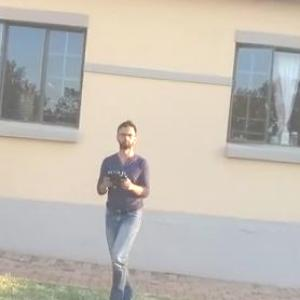follow: (86, 113, 154, 299)
